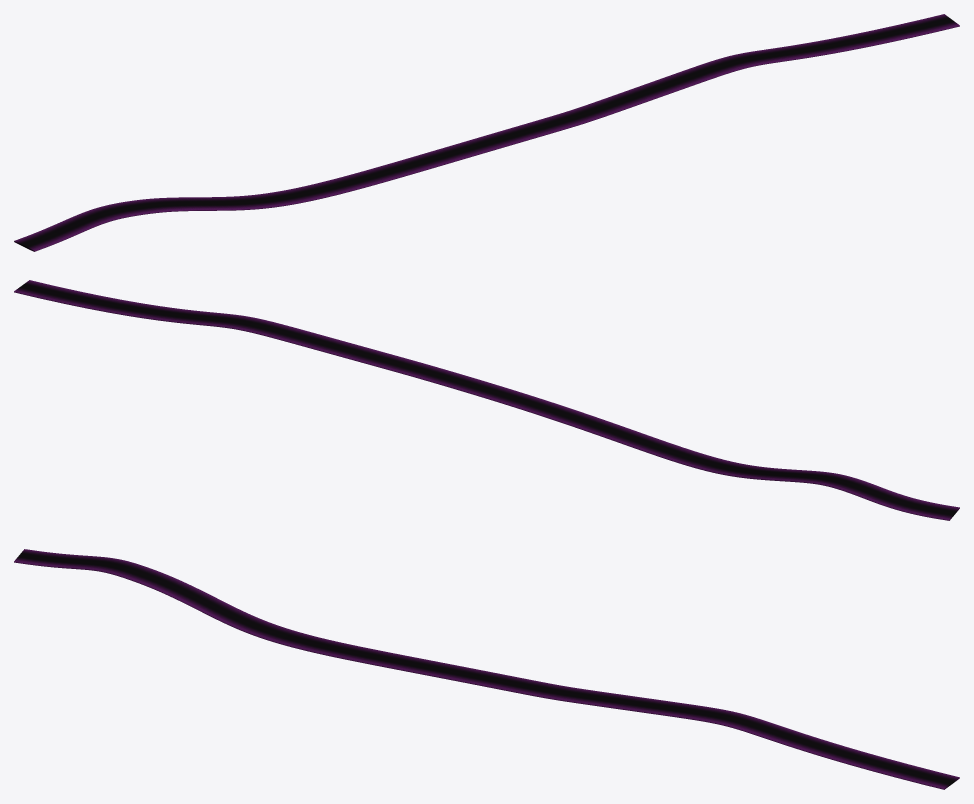
File: level-03-track-01.glb
3 renders of one model, top to bottom at view 1: azimuth 30°, elevation 25°; view 2: azimuth 150°, elevation 25°; view 3: azimuth 330°, elevation 25°, orthographic.
Parts seen in each view (by area): view 1: track-01.002; view 2: track-01.002; view 3: track-01.002.
Boxes of the visible parts, left/top/right/bottom form: track-01.002: left=14, top=14, right=959, bottom=251; track-01.002: left=14, top=280, right=959, bottom=520; track-01.002: left=14, top=549, right=959, bottom=789.
Size of the model in its own units: 281 by 8.04 by 16.26.
Materials: 2 (2 with a texture image).
